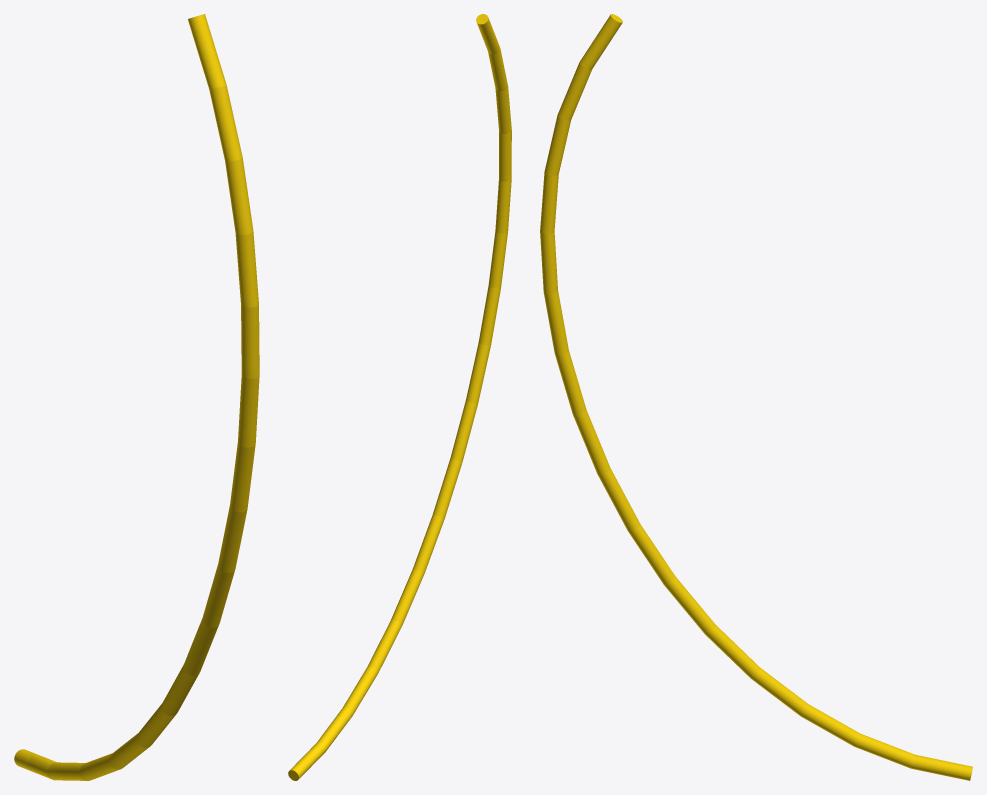
The model's file is Event_421278790_track_48.fbx.
3 renders of one model, left to right at view 1: azimuth 30°, elevation 25°; view 2: azimuth 150°, elevation 25°; view 3: azimuth 270°, elevation 25°, orthographic. The views are drawn at different scales.
Visible parts, largest first — view 1: Model; view 2: Model; view 3: Model.
Boxes of the visible parts, x1,y1,x2,y2 form: Model: [14, 14, 259, 780]; Model: [288, 14, 511, 780]; Model: [540, 14, 972, 780].
Size of the model in its own units: 0.1563 by 2.26 by 1.19.
